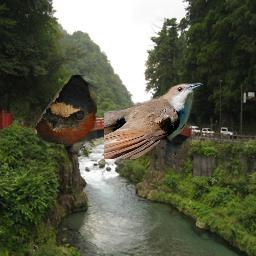Cuckoo: (104, 83, 203, 159)
Swallow: (35, 75, 97, 146)
